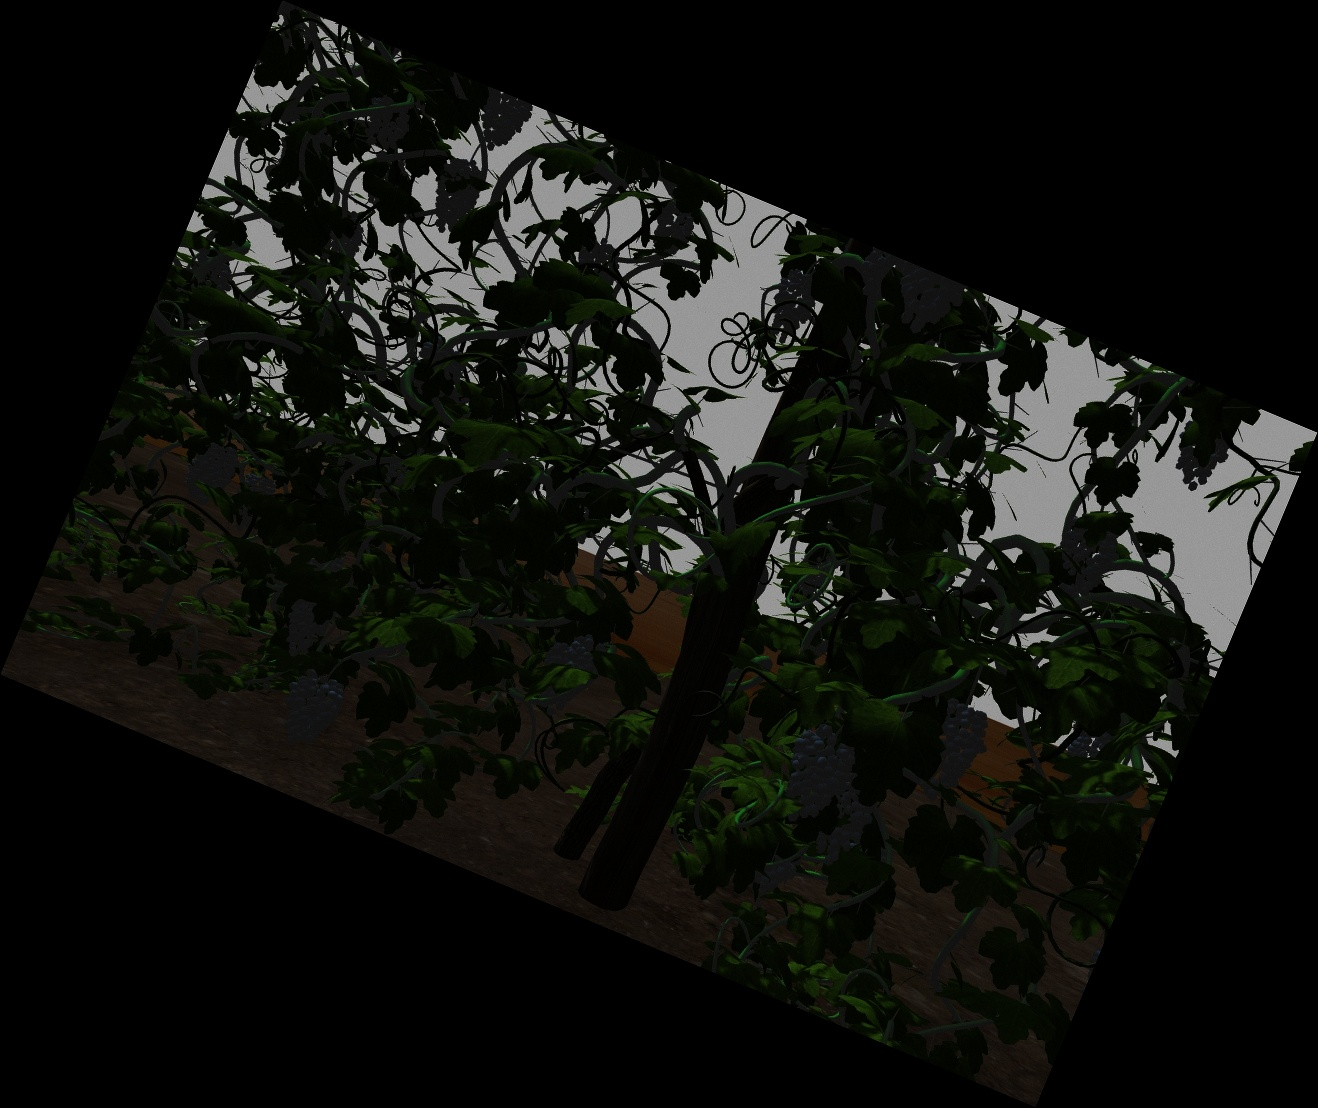grape: (928, 702, 982, 800), (787, 730, 843, 815), (538, 635, 592, 717), (280, 675, 337, 750), (1063, 516, 1119, 590), (890, 277, 956, 334), (432, 160, 481, 235), (826, 783, 868, 863), (1173, 426, 1226, 487), (187, 442, 233, 508), (771, 269, 812, 337), (284, 597, 328, 654), (476, 98, 523, 151), (653, 202, 691, 258), (363, 101, 410, 145)
